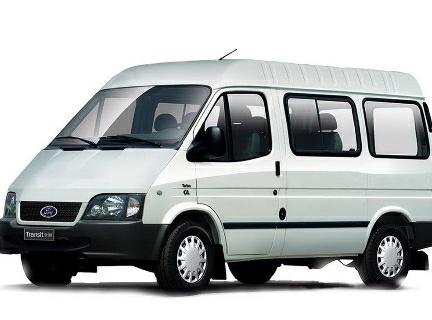福特-经典全顺: (2, 52, 432, 299)
